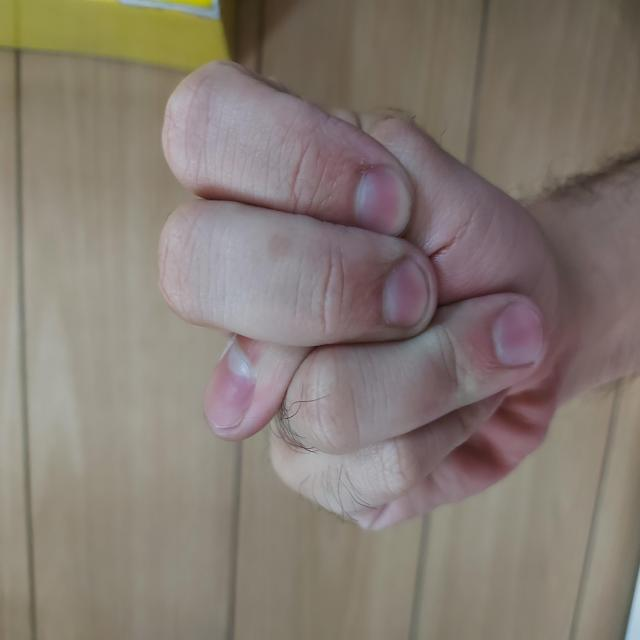N: (107, 152, 581, 573)
